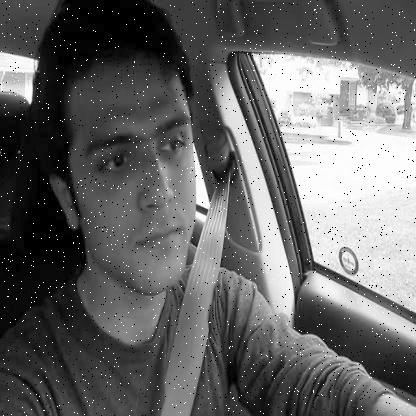seatbelt: (41, 0, 252, 416)
